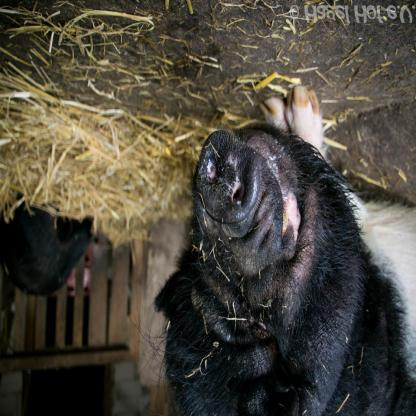boar: (127, 86, 415, 416), (3, 193, 94, 296)
